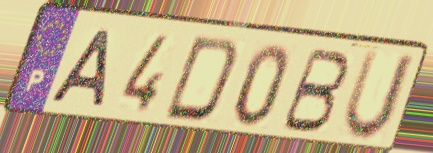0: (232, 41, 292, 130)
4: (118, 33, 173, 116)
A: (46, 27, 117, 111)
B: (276, 45, 353, 136)
D: (159, 33, 244, 126)
U: (339, 48, 420, 145)
